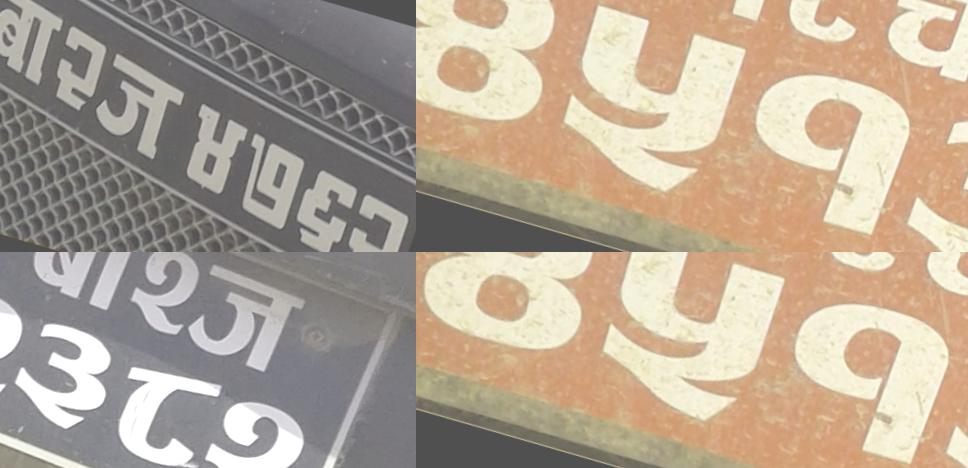1: (717, 48, 933, 252), (756, 277, 968, 468), (669, 0, 794, 48)
2: (188, 387, 320, 468), (117, 252, 213, 354), (37, 17, 117, 126), (329, 186, 416, 252), (0, 270, 39, 415)
3: (0, 304, 131, 457), (878, 98, 968, 252)
4: (416, 252, 624, 384), (416, 0, 585, 155), (167, 95, 258, 210)
5: (530, 0, 764, 225), (569, 252, 803, 454)
6: (282, 160, 368, 252)
7: (219, 123, 318, 248)
8: (93, 345, 231, 468), (763, 0, 890, 74), (802, 252, 929, 303)
ba: (10, 252, 155, 337), (0, 0, 72, 98)
cha: (862, 0, 968, 115), (901, 252, 968, 344)
ja: (176, 255, 318, 402), (79, 45, 194, 177)
